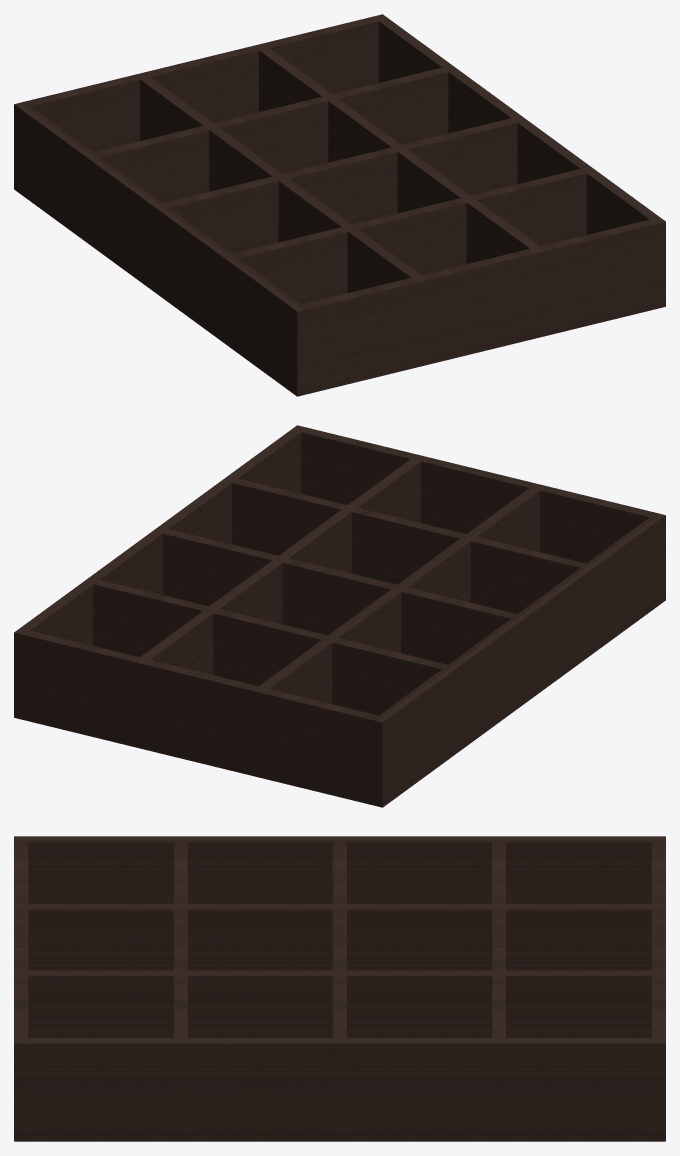
The model's file is bookcase.glb.
3 renders of one model, top to bottom at view 1: azimuth 30°, elevation 25°; view 2: azimuth 150°, elevation 25°; view 3: azimuth 270°, elevation 25°, orthographic. The views are drawn at different scales.
Visible parts, largest first — view 1: 20357_Cube_Bookcase_v1 Textured; view 2: 20357_Cube_Bookcase_v1 Textured; view 3: 20357_Cube_Bookcase_v1 Textured.
Part boxes in pixels (x1,y1,x2,y2): 20357_Cube_Bookcase_v1 Textured: (14,14,665,396); 20357_Cube_Bookcase_v1 Textured: (14,425,665,807); 20357_Cube_Bookcase_v1 Textured: (14,836,665,1141).
Bounding box in the file's own units: 9.88 × 2.19 × 13.15.
Materials: 1 (1 with a texture image).
